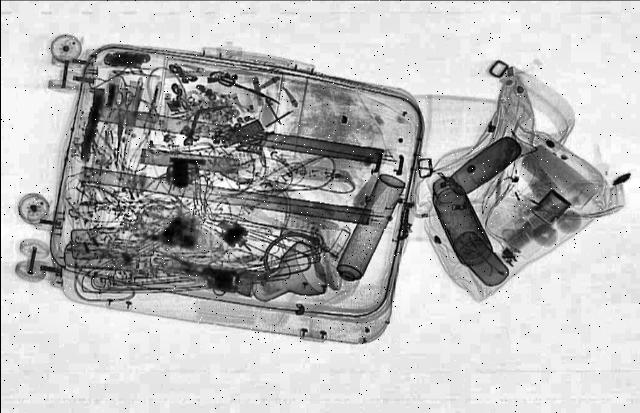Scissors: (215, 75, 287, 105)
